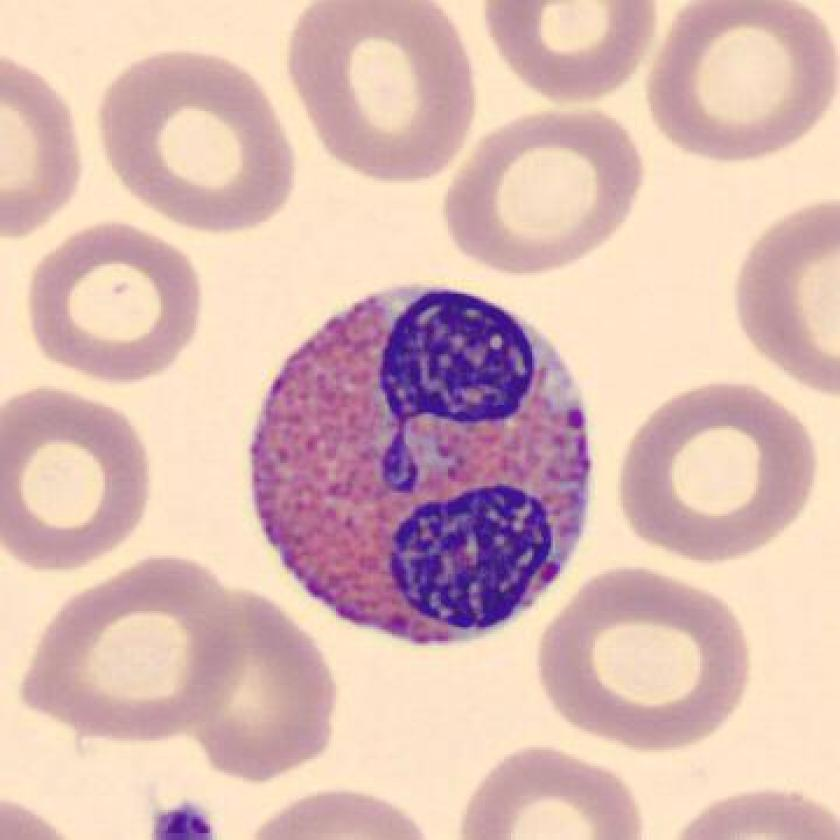eosinophil: (234, 272, 608, 663)
